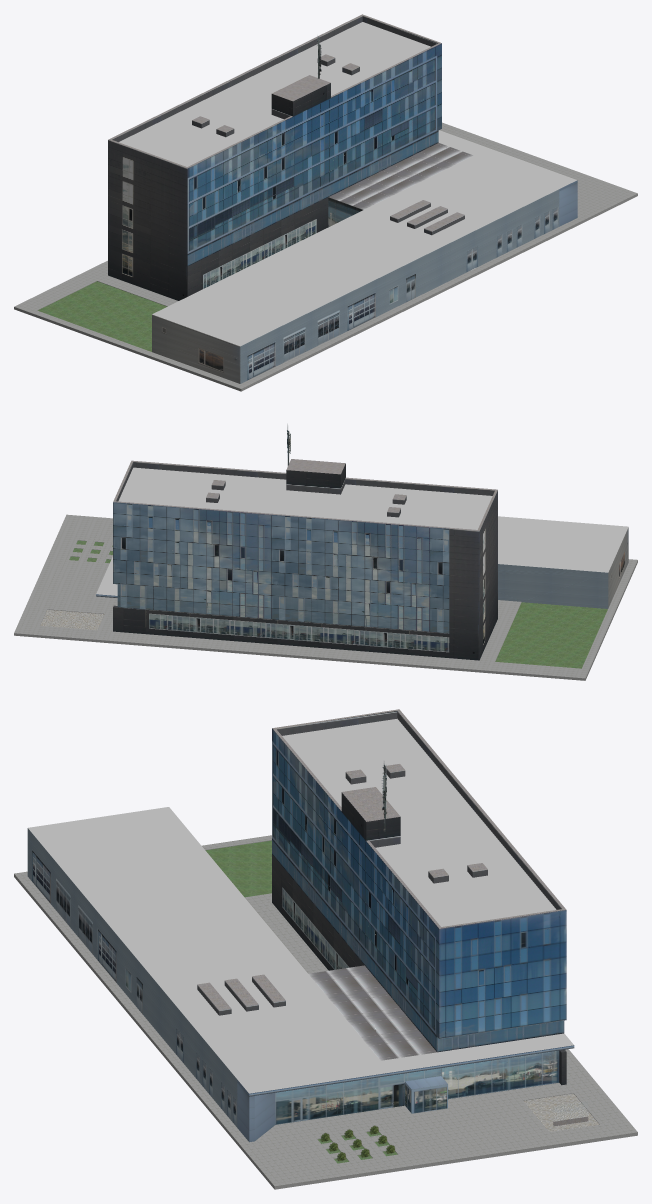
3 views of the same model, one above another, from view 1: azimuth 30°, elevation 25°; view 2: azimuth 150°, elevation 25°; view 3: azimuth 270°, elevation 25° (orthographic). The views are drawn at different scales.
Visible parts, largest first — view 1: Material2 (×20); view 2: Material2 (×13); view 3: Material2 (×20).
Boxes of the visible parts, x1,y1,x2,y2 form: Material2 (×20): [14, 14, 637, 391]; Material2 (×13): [14, 459, 637, 680]; Material2 (×20): [14, 709, 637, 1189].
Size of the model in its own units: 3192 by 1034 by 2294.
